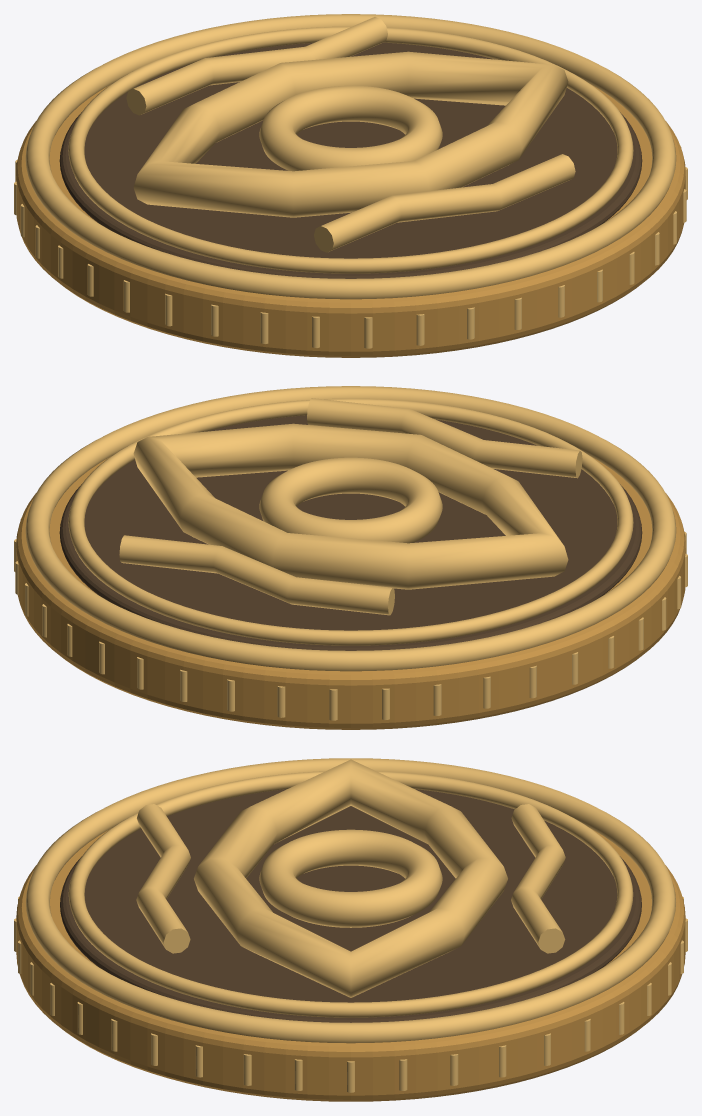
Rendered from C-WaveEye.fbx.
The picture shows the model from 3 angles, top to bottom: view 1: azimuth 30°, elevation 25°; view 2: azimuth 150°, elevation 25°; view 3: azimuth 270°, elevation 25°; orthographic projection.
Parts seen in each view (by area): view 1: C-WaveEye; view 2: C-WaveEye; view 3: C-WaveEye.
Boxes of the visible parts, x1=… form: C-WaveEye: x1=14, y1=14, x2=687, y2=357; C-WaveEye: x1=14, y1=386, x2=687, y2=729; C-WaveEye: x1=14, y1=758, x2=687, y2=1101.
Size of the model in its own units: 101 by 17.38 by 101.
